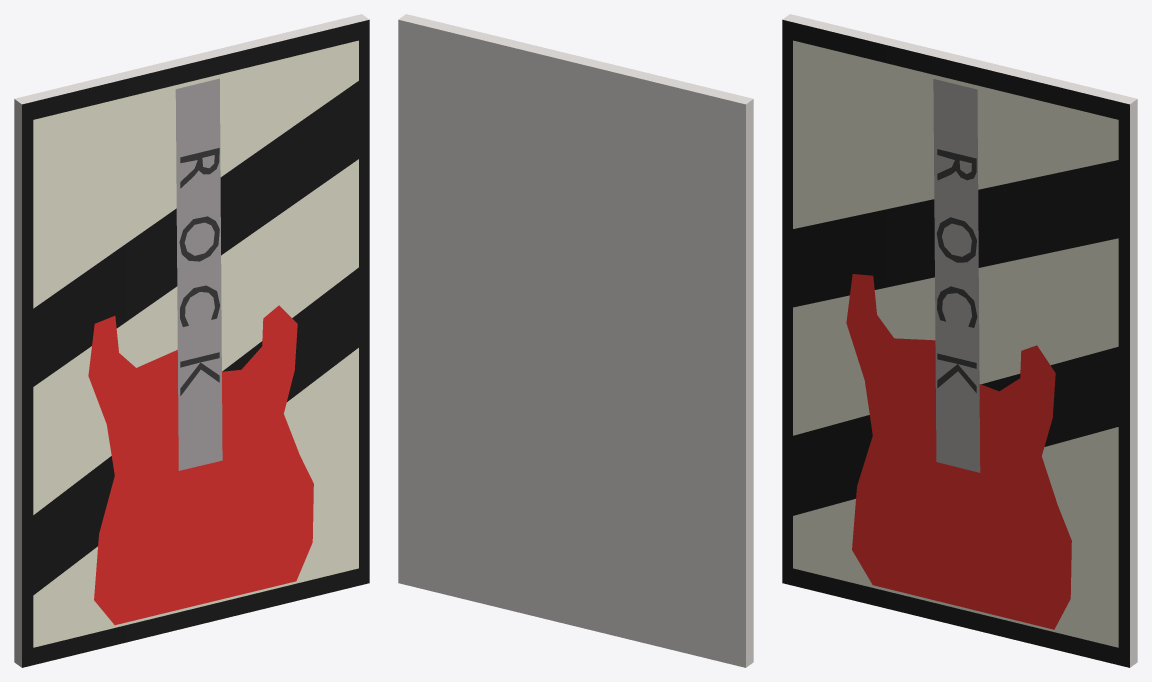
The model's file is picture_038.glb.
3 views of the same model, side by side, from view 1: azimuth 30°, elevation 25°; view 2: azimuth 150°, elevation 25°; view 3: azimuth 330°, elevation 25° (orthographic).
Visible parts, largest first — view 1: picture_038; view 2: picture_038; view 3: picture_038.
Part boxes in pixels (x1,y1,x2,y2): picture_038: (14, 14, 369, 667); picture_038: (398, 14, 753, 667); picture_038: (782, 14, 1137, 667).
Size of the model in its own units: 0.4795 by 0.7427 by 0.0222.
Materials: 1 (1 with a texture image).
